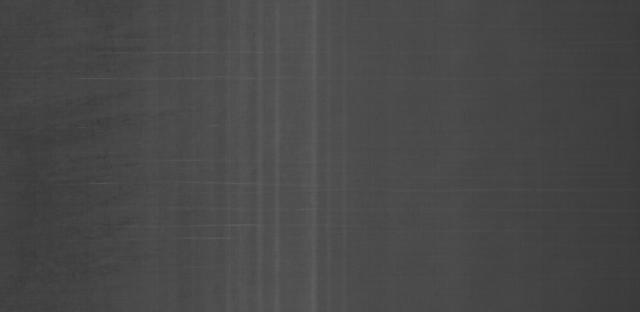waist_folding: (156, 11, 352, 299)
